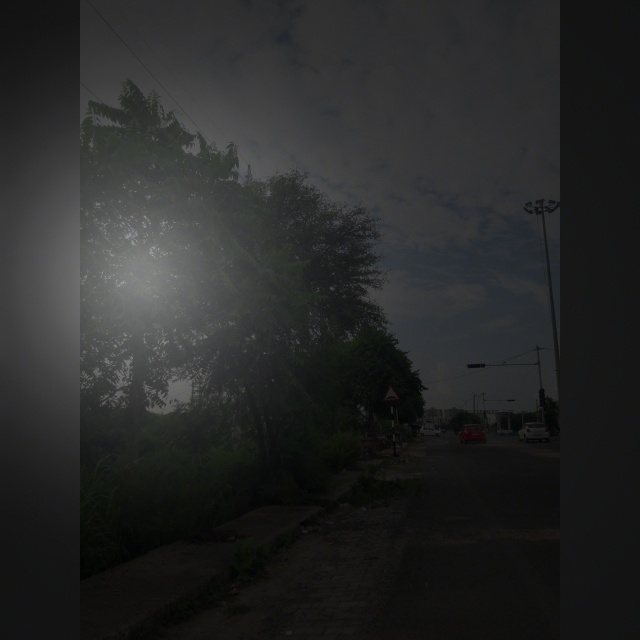Hump_or_Rough_Road: (379, 377, 403, 408)
